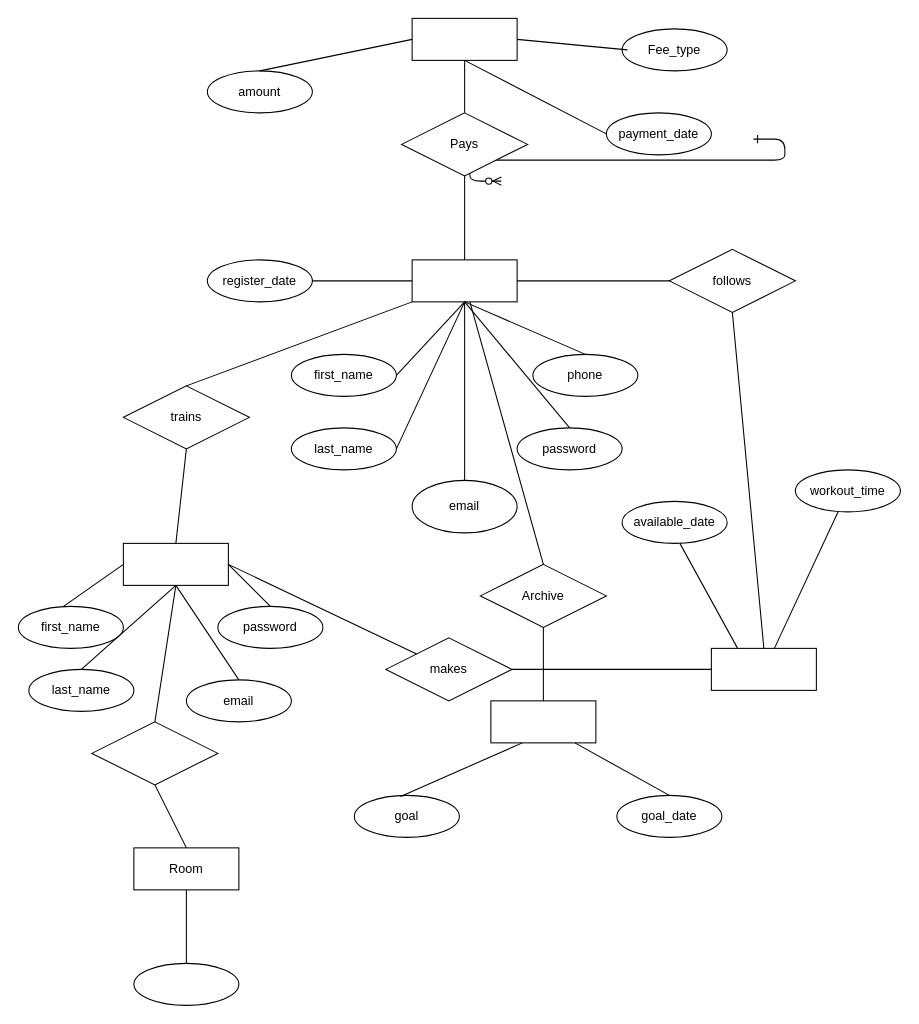
The diagram is 919 pixels wide and 1024 high, and some of its shapes have lost their labels. Here are the shapes that lost their labels. From the top down, the box of each, then its label:
(411, 17, 517, 60): Bill
(411, 259, 517, 302): Member
(122, 542, 228, 585): Trainer
(710, 647, 816, 690): Schedule
(490, 700, 596, 743): FitnessGoal
(91, 721, 218, 785): host
(133, 962, 239, 1005): room_name
